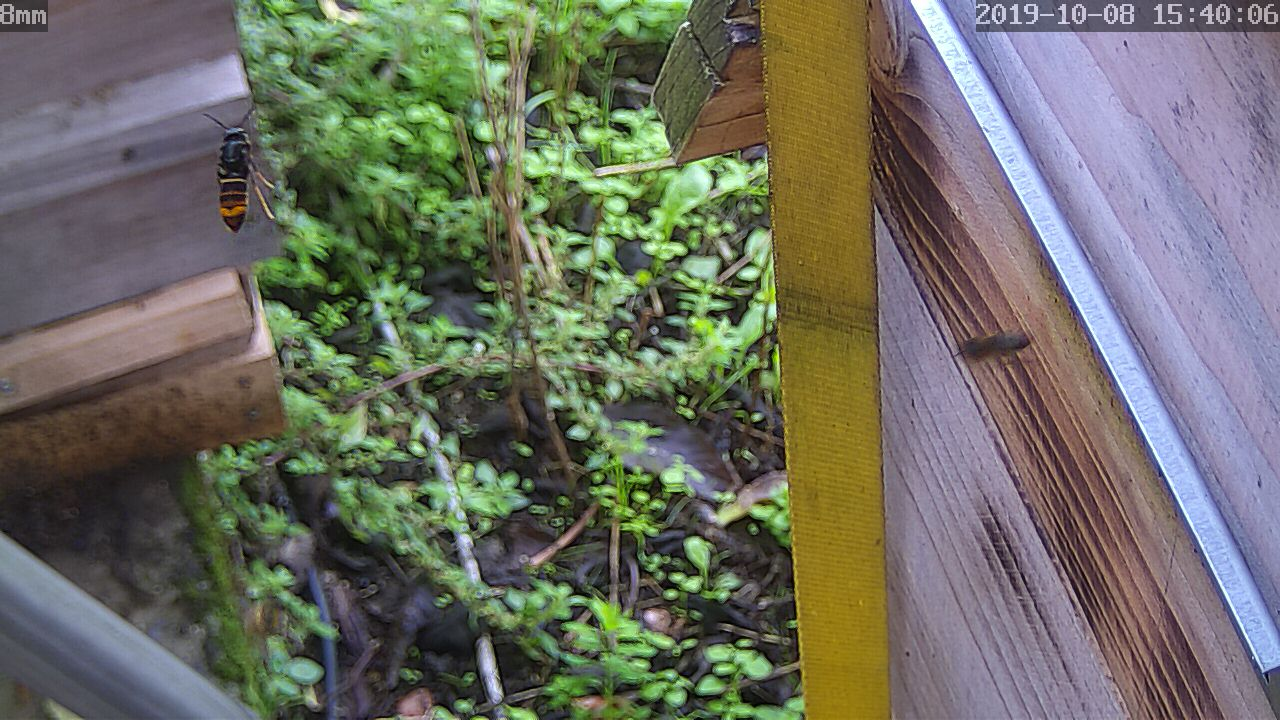bee: (950, 325, 1035, 372)
hornet: (193, 114, 276, 237)
